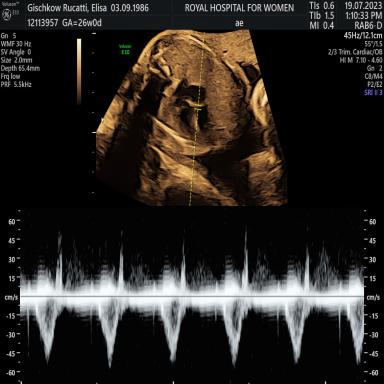Ultrasound-Waves: (27, 213, 364, 384)
